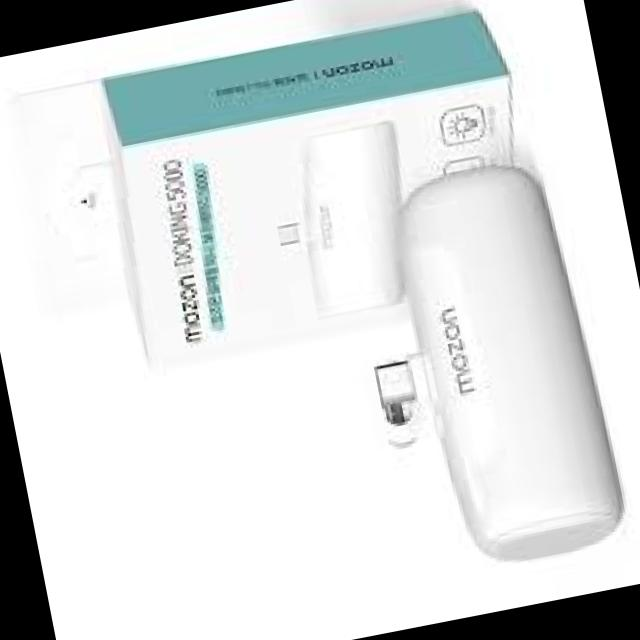power_bank: (329, 146, 631, 585), (254, 110, 433, 323)
